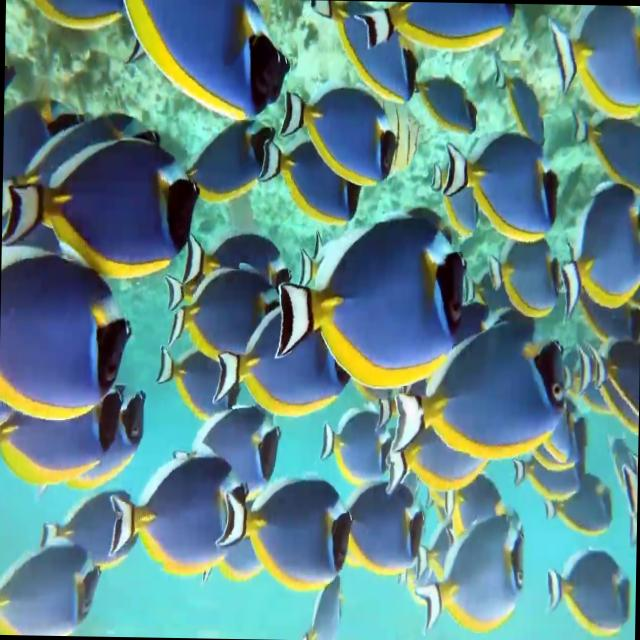fish: (262, 201, 494, 407), (1, 130, 200, 280), (391, 315, 579, 465), (0, 246, 132, 446), (214, 462, 350, 600), (269, 77, 401, 217), (101, 452, 236, 588), (207, 323, 355, 438), (412, 508, 526, 636), (0, 373, 126, 485), (430, 124, 563, 230), (555, 193, 640, 338), (544, 4, 640, 126), (260, 138, 360, 252), (0, 540, 110, 636), (380, 416, 480, 516), (154, 331, 238, 437), (543, 546, 636, 636), (344, 482, 434, 574), (474, 229, 552, 331), (192, 114, 272, 210), (38, 482, 112, 581), (321, 400, 403, 485), (92, 380, 148, 496), (545, 460, 619, 541), (561, 114, 640, 184), (293, 572, 349, 640)
